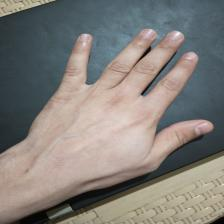five: (62, 27, 218, 166)
